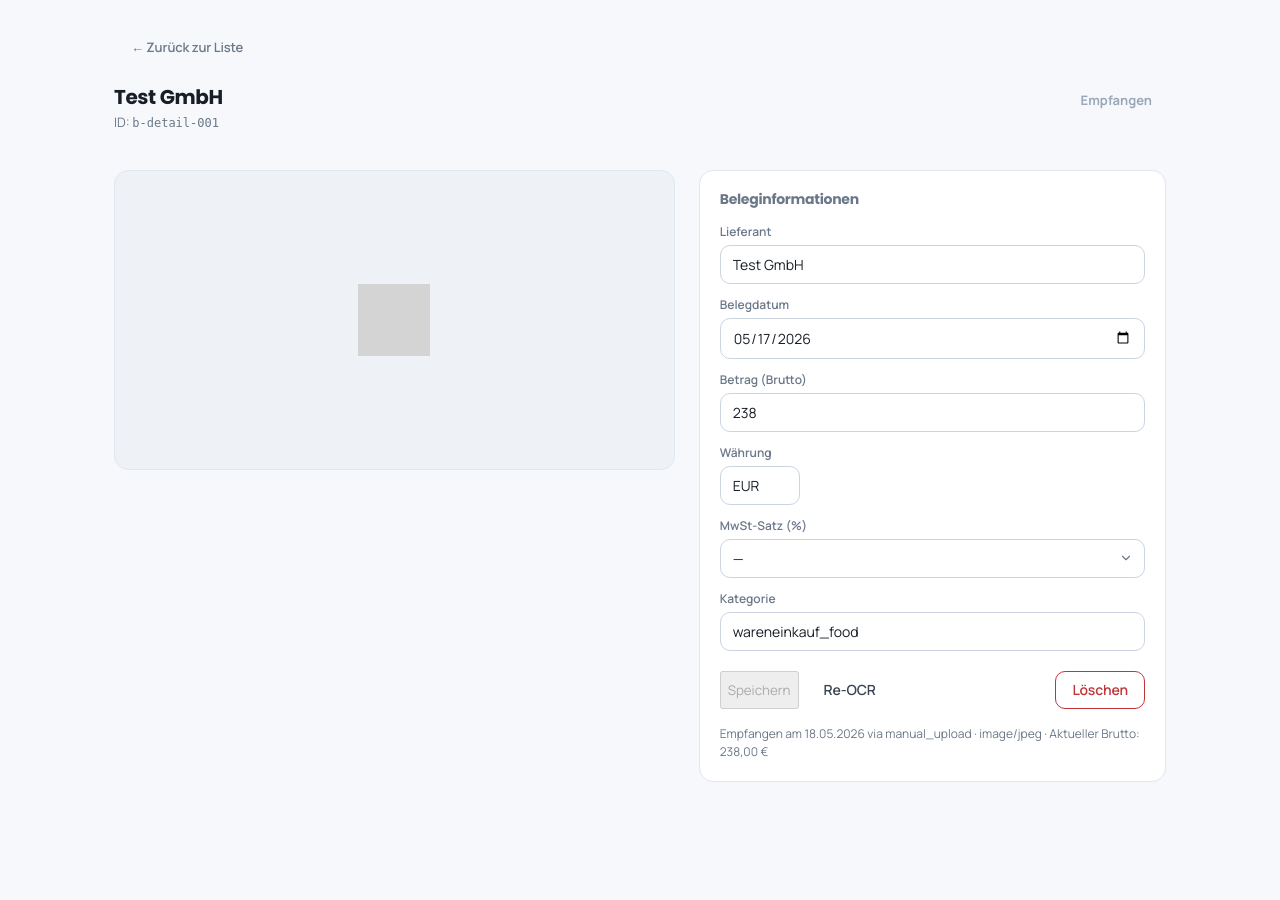
it: BelegeDetailPage › T015: Save-Button initial disabled (kein dirty), wird aktiv bei Änderung
expect the button with test id "btn-save" is disabled: met, box [720,671,798,709]
Replace the text in the field with test id "field-supplier_name" with "Neuer Lieferant". click: (932, 264)
box: [720,245,1145,284]
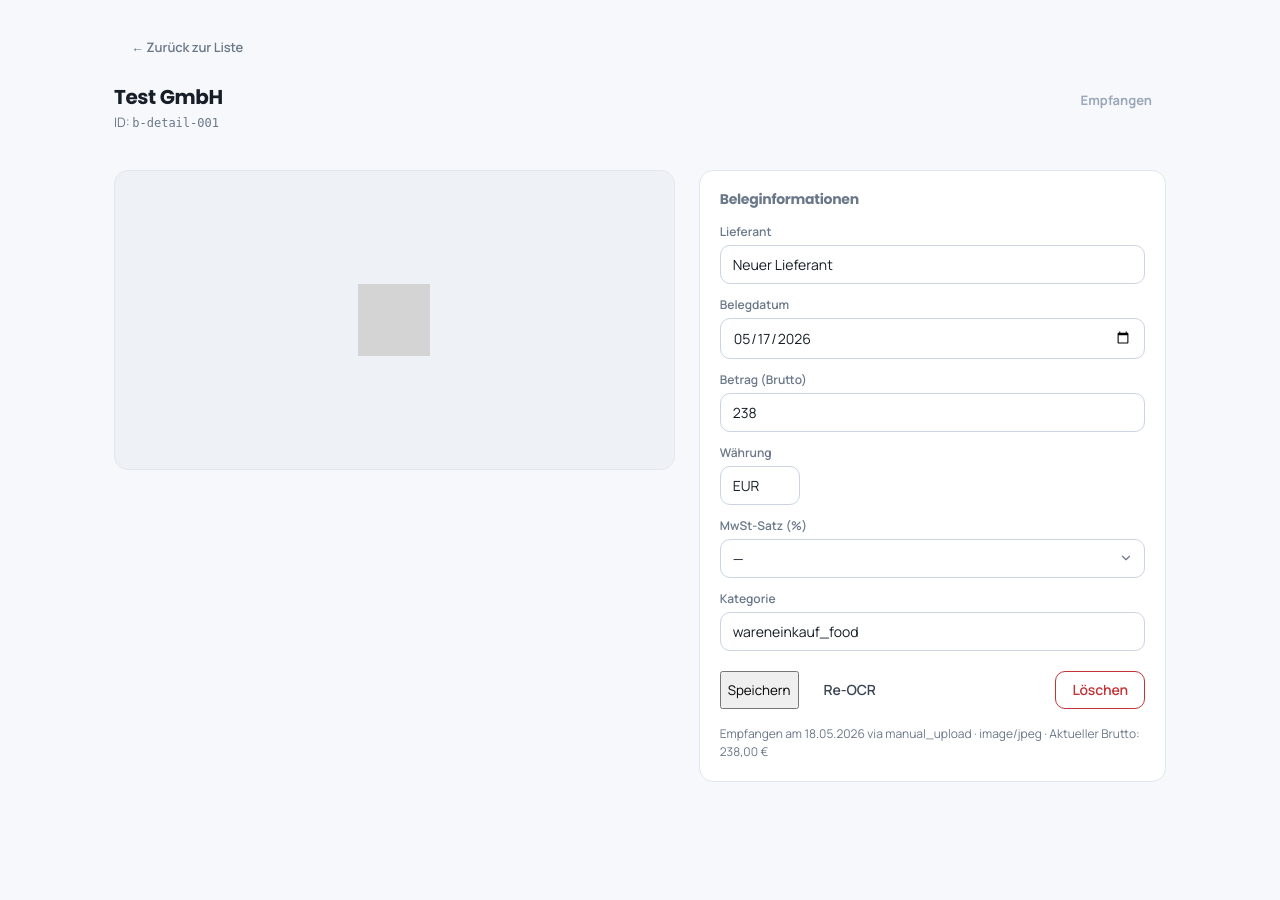
expect the button with test id "btn-save" is enabled: met, box [720,671,798,709]
